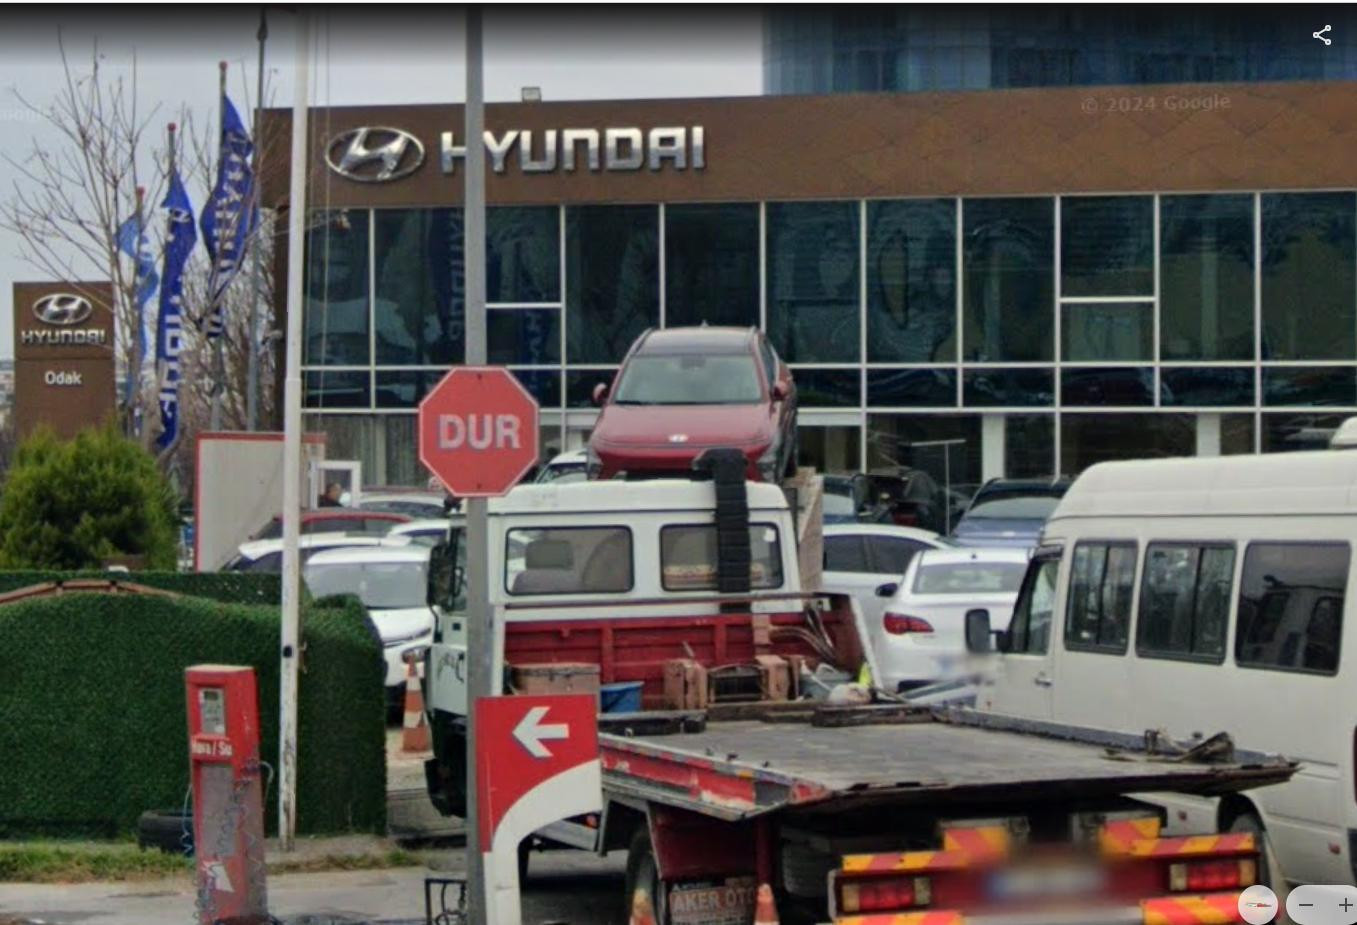stop: (418, 369, 543, 494)
